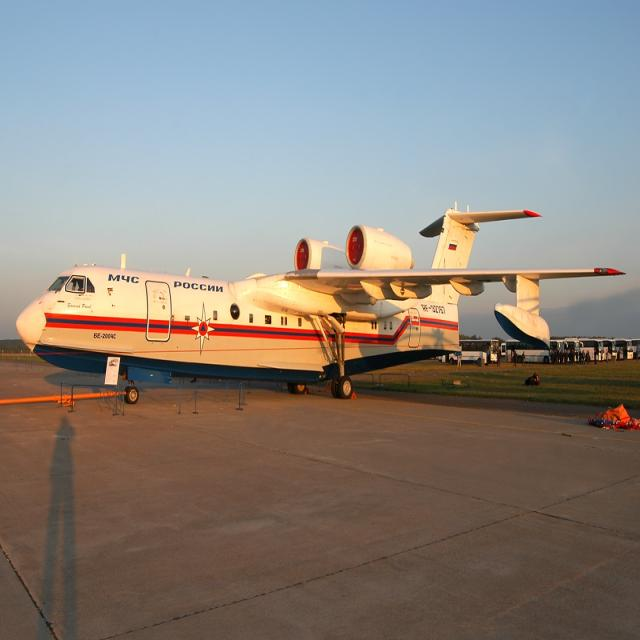MIL_Plane: (0, 200, 356, 405)
